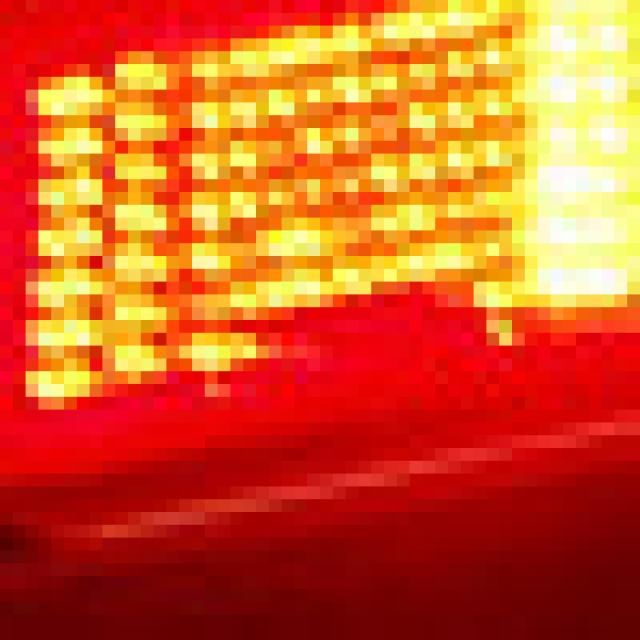fire: (17, 60, 640, 478)
